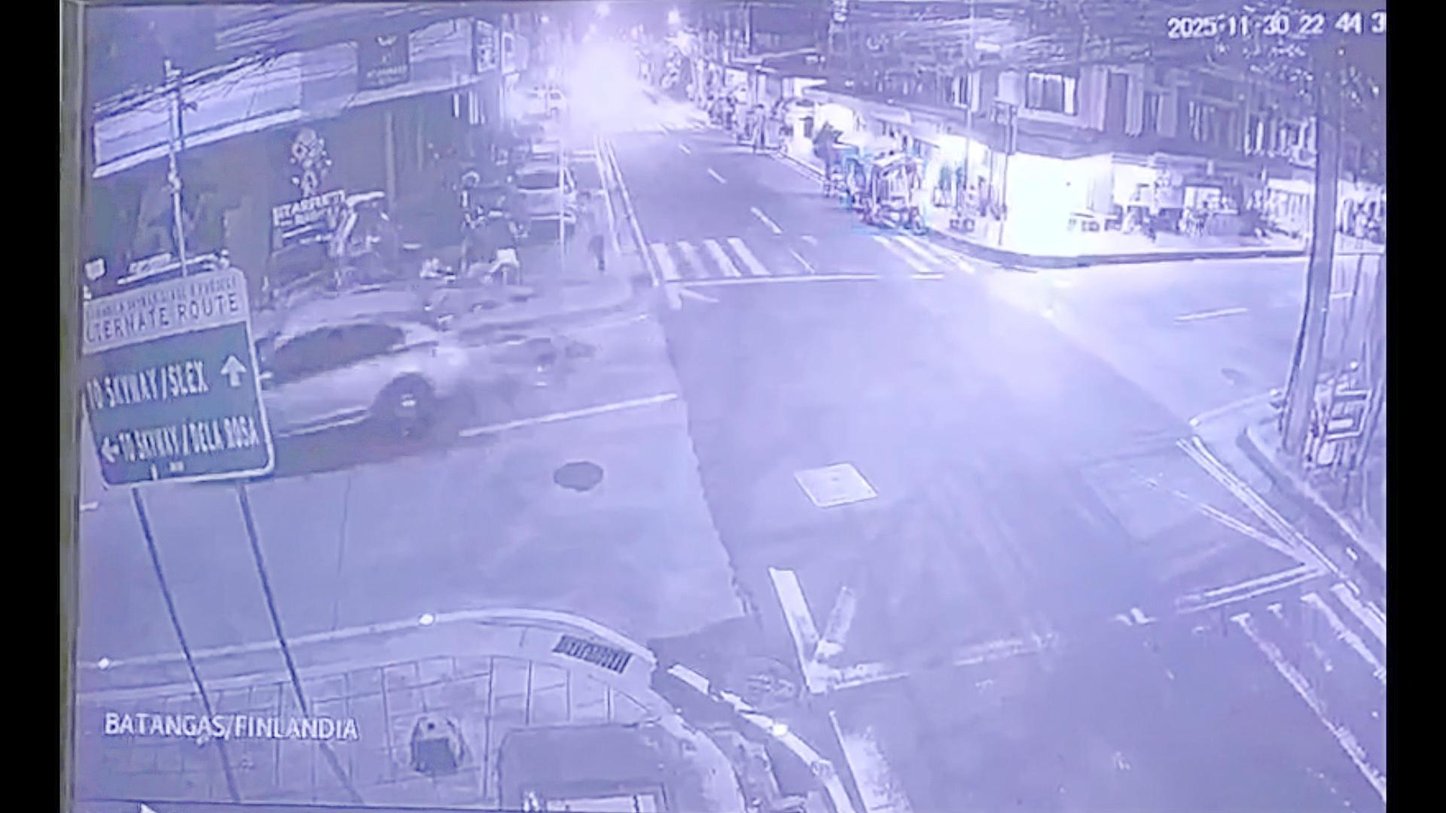Car: (193, 285, 464, 453)
